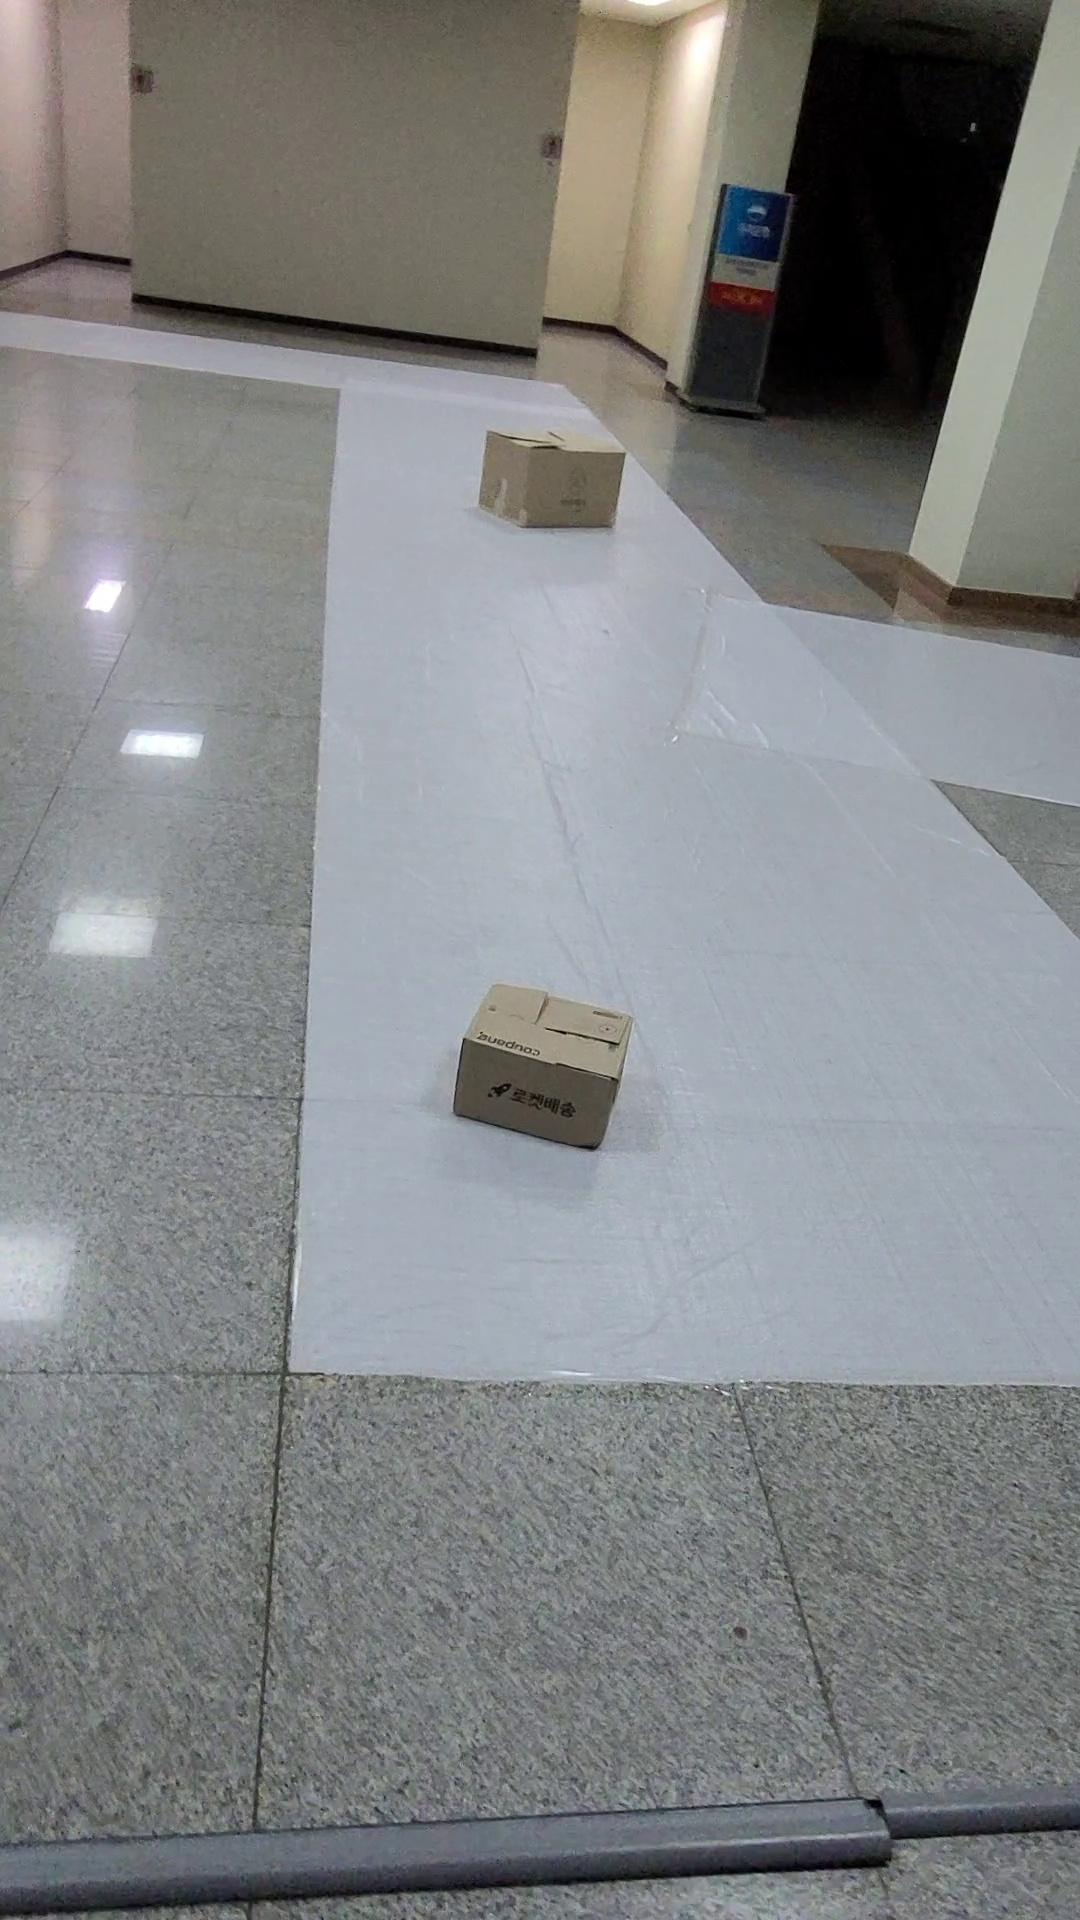Box: (396, 957, 695, 1163), (426, 415, 650, 545)
